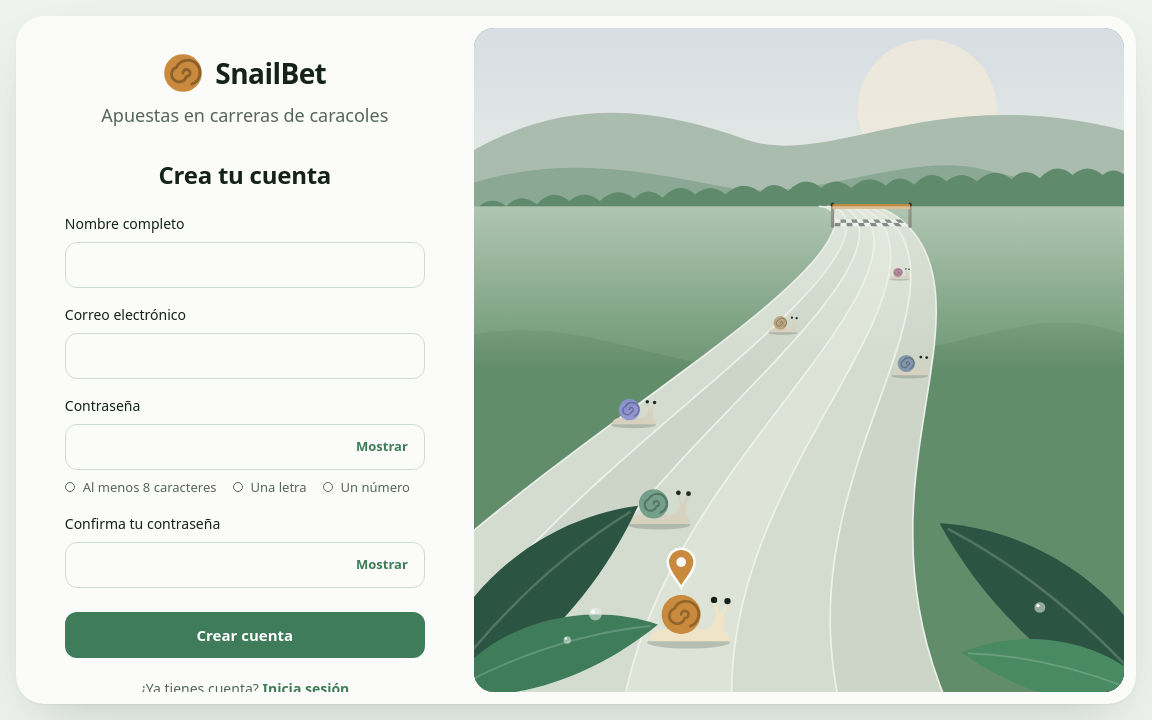
Test case: flujo de autenticación › muestra los errores de validación al intentar enviar vacío
The image size is (1152, 720).
Click the button "Crear cuenta": click(245, 635) [65,612,425,658]
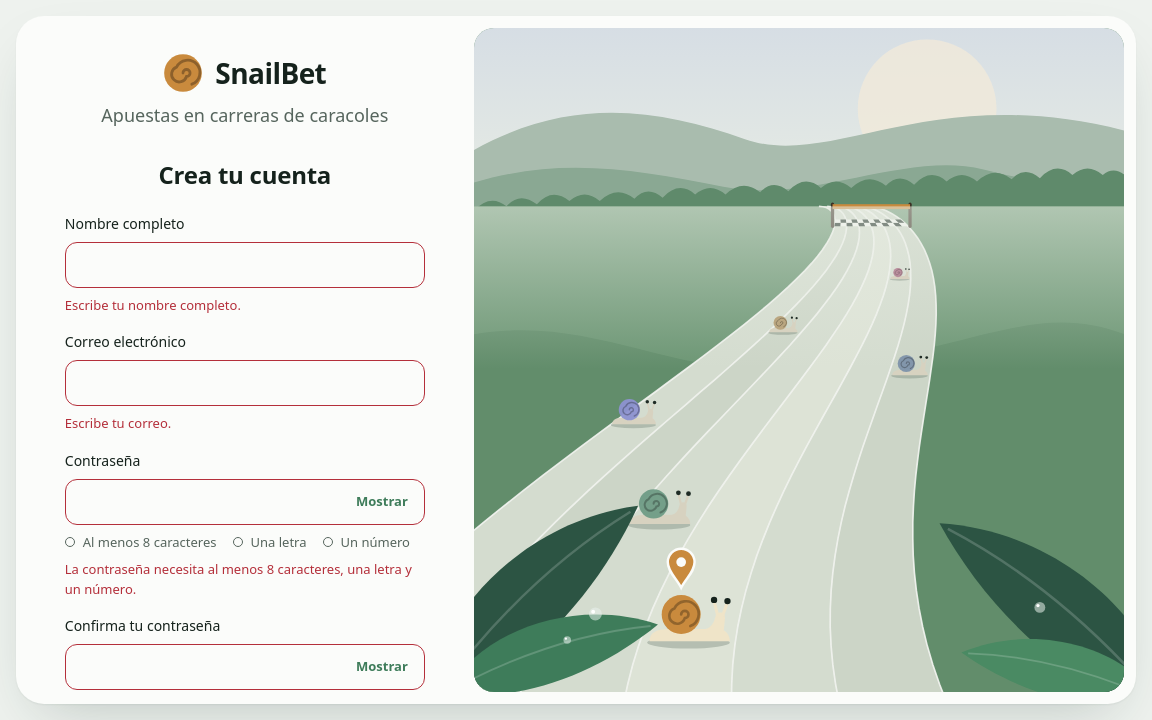
Result: the text "Escribe tu nombre completo." is shown at [65,296,241,314]
Result: the text "Escribe tu correo." is shown at [65,414,171,432]
